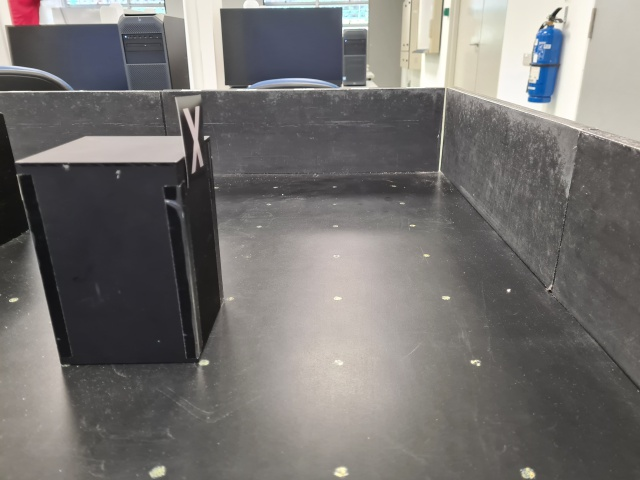alphabet_x: (174, 94, 210, 188)
